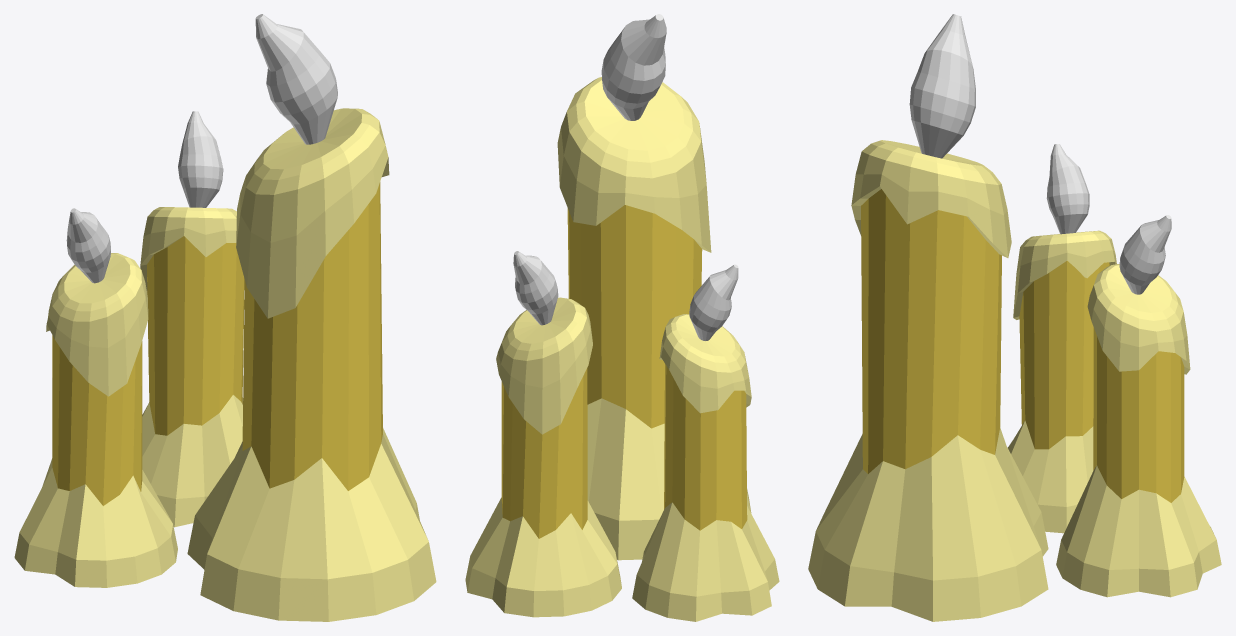
Rendered from graveyardcandle.fbx.
The picture shows the model from 3 angles, left to right: view 1: azimuth 30°, elevation 25°; view 2: azimuth 150°, elevation 25°; view 3: azimuth 270°, elevation 25°; orthographic projection. The views are drawn at different scales.
Visible parts, largest first — view 1: Cylinder; view 2: Cylinder; view 3: Cylinder.
Part boxes in pixels (x1,y1,x2,y2): Cylinder: [14, 14, 436, 621]; Cylinder: [465, 14, 779, 621]; Cylinder: [808, 14, 1221, 621].
Size of the model in its own units: 153 by 246 by 171.
